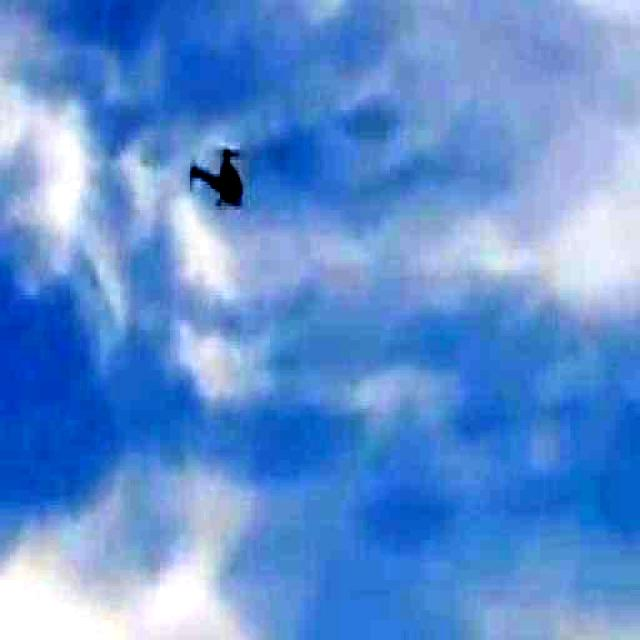drone: (185, 129, 254, 215)
